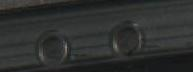joints: (109, 17, 146, 58), (33, 27, 70, 64)
